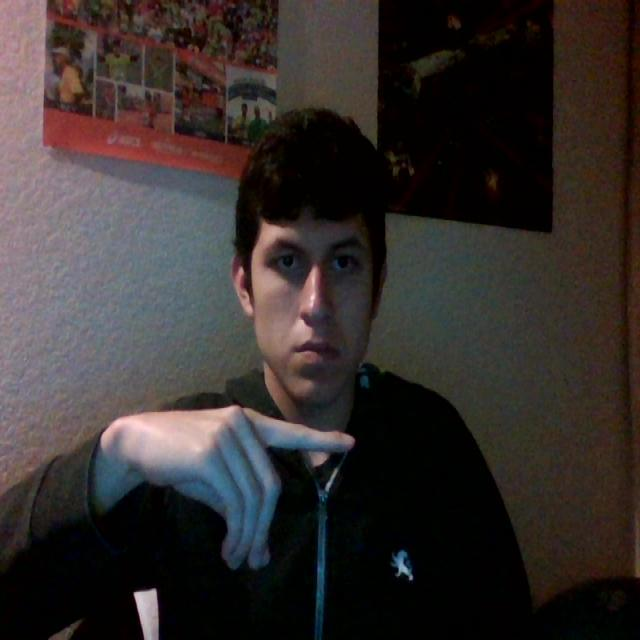P: (86, 339, 347, 600)
